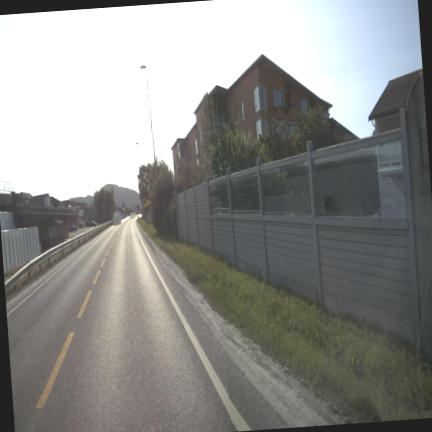Road: (6, 218, 284, 431)
